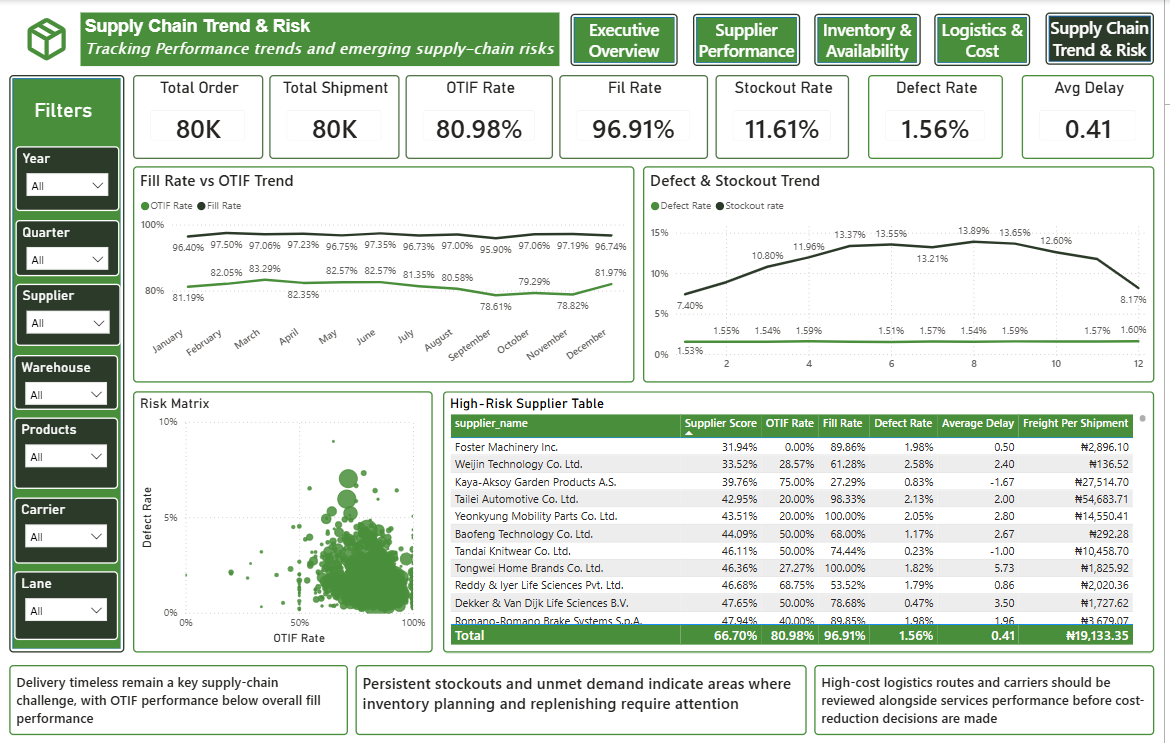

Layout of this report page (visuals, bound fields, positions):
{"tool":"powerbi","page":{"name":"Supply Chain Trend & Risk","canvas":[1410,900],"ordinal":4},"visuals":[{"type":"cardVisual","title":"Total Order","fields":{"Data":["KPIs meansure.Total Order"]},"box":[163.3,90.7,157.2,101.3],"z":0},{"type":"cardVisual","title":"Total Shipment","fields":{"Data":["KPIs meansure.Total Shipments"]},"box":[328,90.7,157.2,101.3],"z":1000},{"type":"cardVisual","title":"OTIF Rate","fields":{"Data":["KPIs meansure.OTIF Rate"]},"box":[492.8,90.7,178.4,101.3],"z":2000},{"type":"cardVisual","title":"Fil Rate","fields":{"Data":["KPIs meansure.Fill Rate"]},"box":[678.7,90.7,179.9,101.3],"z":3000},{"type":"cardVisual","title":"Stockout Rate","fields":{"Data":["KPIs meansure.Stockout rate"]},"box":[867.6,90.7,161.7,101.3],"z":4000},{"type":"cardVisual","title":"Defect Rate","fields":{"Data":["KPIs meansure.Defect Rate"]},"box":[1052.1,90.7,163.3,101.3],"z":5000},{"type":"lineChart","title":" Fill Rate vs OTIF Trend","fields":{"Y":["KPIs meansure.OTIF Rate","KPIs meansure.Fill Rate"],"Category":["tblDate.date.Variation.Date Hierarchy.Month"]},"box":[163.3,201,606.1,261.5],"z":6000},{"type":"lineChart","title":"Defect & Stockout Trend","fields":{"Category":["tblDate.month"],"Y":["KPIs meansure.Defect Rate","KPIs meansure.Stockout rate"]},"box":[780,201,618.2,261.5],"z":7000},{"type":"tableEx","title":"High-Risk Supplier Table","fields":{"Values":["tblSuppliers.supplier_name","KPIs meansure.Supplier Score","KPIs meansure.OTIF Rate","KPIs meansure.Fill Rate","KPIs meansure.Defect Rate","KPIs meansure.Average Delay Days","KPIs meansure.Freight Per Shipment"]},"box":[538.1,473.1,860.1,315.9],"z":8000},{"type":"shape","box":[13.6,90.7,139.1,698.4],"z":9000},{"type":"slicer","title":"Year","fields":{"Values":["tblDate.year"]},"box":[21.2,176.9,125.5,78.6],"z":10000},{"type":"slicer","title":"Supplier","fields":{"Values":["tblSuppliers.supplier_name"]},"box":[21.2,343.1,127,75.6],"z":11000},{"type":"slicer","title":"Warehouse","fields":{"Values":["tblInventory_monthly.warehouse_code"]},"box":[19.7,428.5,125.5,66.5],"z":12000},{"type":"slicer","title":"Products","fields":{"Values":["tblProducts.product_category"]},"box":[19.7,504.9,125.5,86.2],"z":13000},{"type":"slicer","title":"Carrier","fields":{"Values":["tblShipments.carrier_id"]},"box":[19.7,600.9,125.5,80.1],"z":14000},{"type":"slicer","title":"Lane","fields":{"Values":["tblShipments.lane_id"]},"box":[19.7,690.8,125.5,83.1],"z":15000},{"type":"slicer","title":"Quarter","fields":{"Values":["tblDate.quarter"]},"box":[21.2,265.3,125.5,68],"z":16000},{"type":"textbox","box":[99.8,15.1,578.9,65],"z":17000},{"type":"shape","box":[692.3,16.6,130,63.5],"z":18000},{"type":"shape","box":[839.7,16.6,130,63.5],"z":19000},{"type":"shape","box":[987.1,16.6,128.5,63.5],"z":20000},{"type":"shape","box":[1132.9,16.6,116.4,63.5],"z":21000},{"type":"shape","box":[1266.7,15.1,131.5,63.5],"z":22000},{"type":"shape","box":[19.7,102.8,123.9,60.5],"z":23000},{"type":"textbox","box":[13.6,804.2,409.6,84.6],"z":24000},{"type":"textbox","box":[987.1,804.2,411.2,84.6],"z":25000},{"type":"cardVisual","title":"Avg Delay","fields":{"Data":["KPIs meansure.Average Delay"]},"box":[1238,90.7,160.2,101.3],"z":26000},{"type":"textbox","box":[432.3,804.2,545.7,84.6],"z":27000},{"type":"scatterChart","title":"Risk Matrix","fields":{"X":["KPIs meansure.OTIF Rate"],"Y":["KPIs meansure.Defect Rate"],"Category":["tblSuppliers.supplier_name"],"Size":["KPIs meansure.Total Freight Cost"]},"box":[163.3,473.1,362.8,315.9],"z":28000},{"type":"image","box":[13.6,16.6,90.7,62],"z":29000}]}

Visuals, with their boxes in screenshot pixels (x1, y1, x2, y2), scaled from the page's 1410x900 canvas onto the 1170x743 screenshot:
"Total Order" cardVisual: <region>136, 75, 266, 159</region>
"Total Shipment" cardVisual: <region>272, 75, 403, 159</region>
"OTIF Rate" cardVisual: <region>409, 75, 557, 159</region>
"Fil Rate" cardVisual: <region>563, 75, 712, 159</region>
"Stockout Rate" cardVisual: <region>720, 75, 854, 159</region>
"Defect Rate" cardVisual: <region>873, 75, 1009, 159</region>
" Fill Rate vs OTIF Trend" lineChart: <region>136, 166, 638, 382</region>
"Defect & Stockout Trend" lineChart: <region>647, 166, 1160, 382</region>
"High-Risk Supplier Table" tableEx: <region>447, 391, 1160, 651</region>
shape: <region>11, 75, 127, 651</region>
"Year" slicer: <region>18, 146, 122, 211</region>
"Supplier" slicer: <region>18, 283, 123, 346</region>
"Warehouse" slicer: <region>16, 354, 120, 409</region>
"Products" slicer: <region>16, 417, 120, 488</region>
"Carrier" slicer: <region>16, 496, 120, 562</region>
"Lane" slicer: <region>16, 570, 120, 639</region>
"Quarter" slicer: <region>18, 219, 122, 275</region>
textbox: <region>83, 12, 563, 66</region>
shape: <region>574, 14, 682, 66</region>
shape: <region>697, 14, 805, 66</region>
shape: <region>819, 14, 926, 66</region>
shape: <region>940, 14, 1037, 66</region>
shape: <region>1051, 12, 1160, 65</region>
shape: <region>16, 85, 119, 135</region>
textbox: <region>11, 664, 351, 734</region>
textbox: <region>819, 664, 1160, 734</region>
"Avg Delay" cardVisual: <region>1027, 75, 1160, 159</region>
textbox: <region>359, 664, 812, 734</region>
"Risk Matrix" scatterChart: <region>136, 391, 437, 651</region>
image: <region>11, 14, 87, 65</region>
